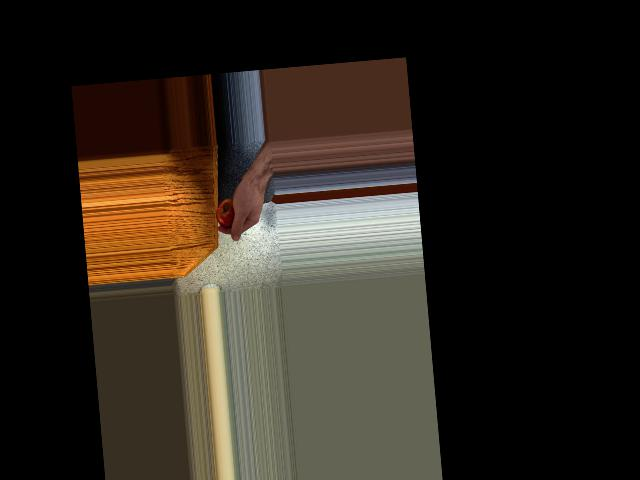apple: (214, 197, 244, 229)
